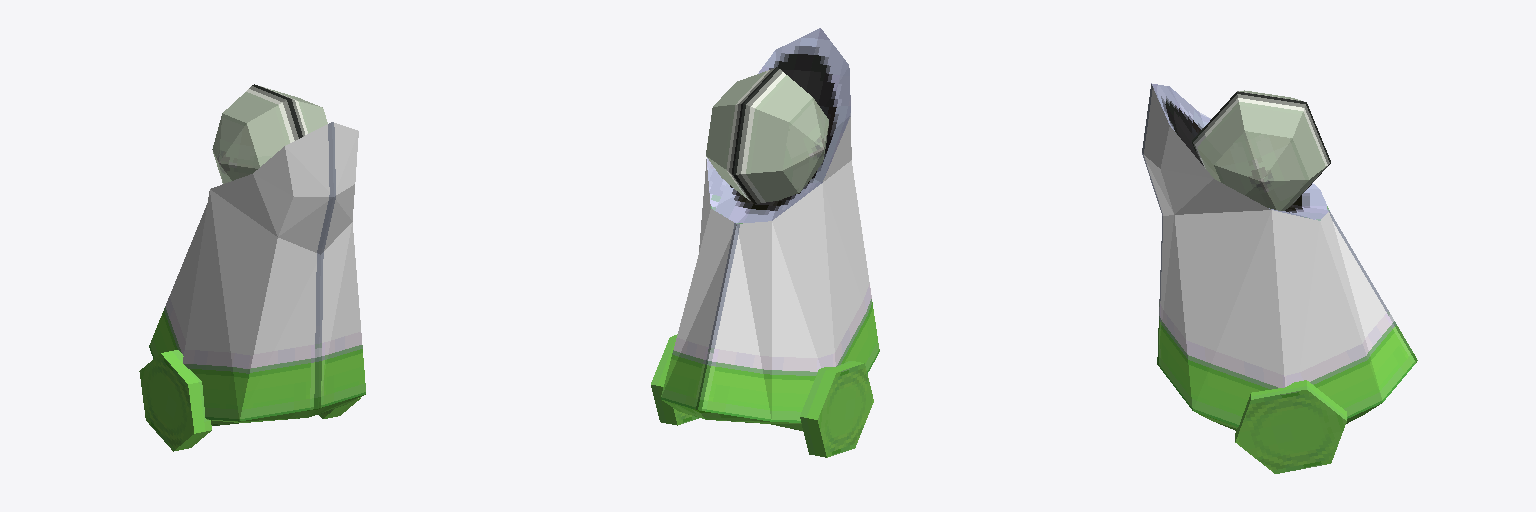
3 views of the same model, side by side, from view 1: azimuth 30°, elevation 25°; view 2: azimuth 150°, elevation 25°; view 3: azimuth 270°, elevation 25° (orthographic).
Parts seen in each view (by area): view 1: buzzlightyRightCalf_buzzlighty.026; view 2: buzzlightyRightCalf_buzzlighty.026; view 3: buzzlightyRightCalf_buzzlighty.026.
Part boxes in pixels (bbox=[...]): buzzlightyRightCalf_buzzlighty.026: bbox=[139, 84, 365, 451]; buzzlightyRightCalf_buzzlighty.026: bbox=[651, 28, 879, 457]; buzzlightyRightCalf_buzzlighty.026: bbox=[1142, 83, 1417, 473].
Bounding box in the file's own units: 0.1133 × 0.2274 × 0.1597.
Materials: 1 (1 with a texture image).